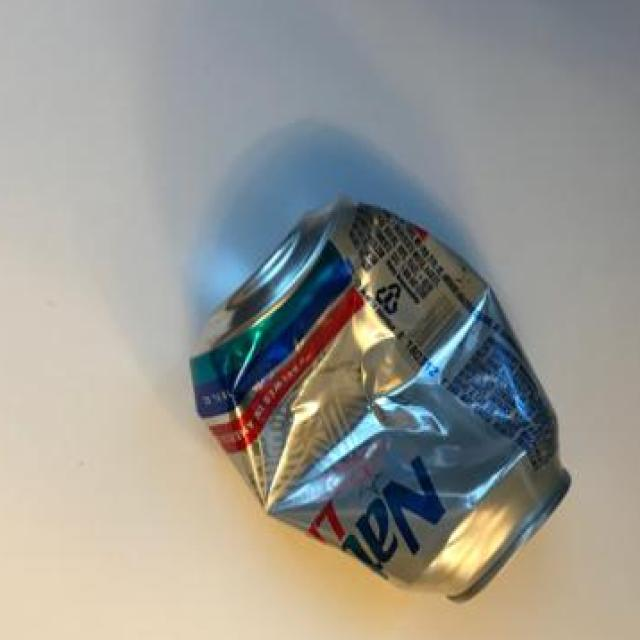organic: (171, 173, 599, 611)
